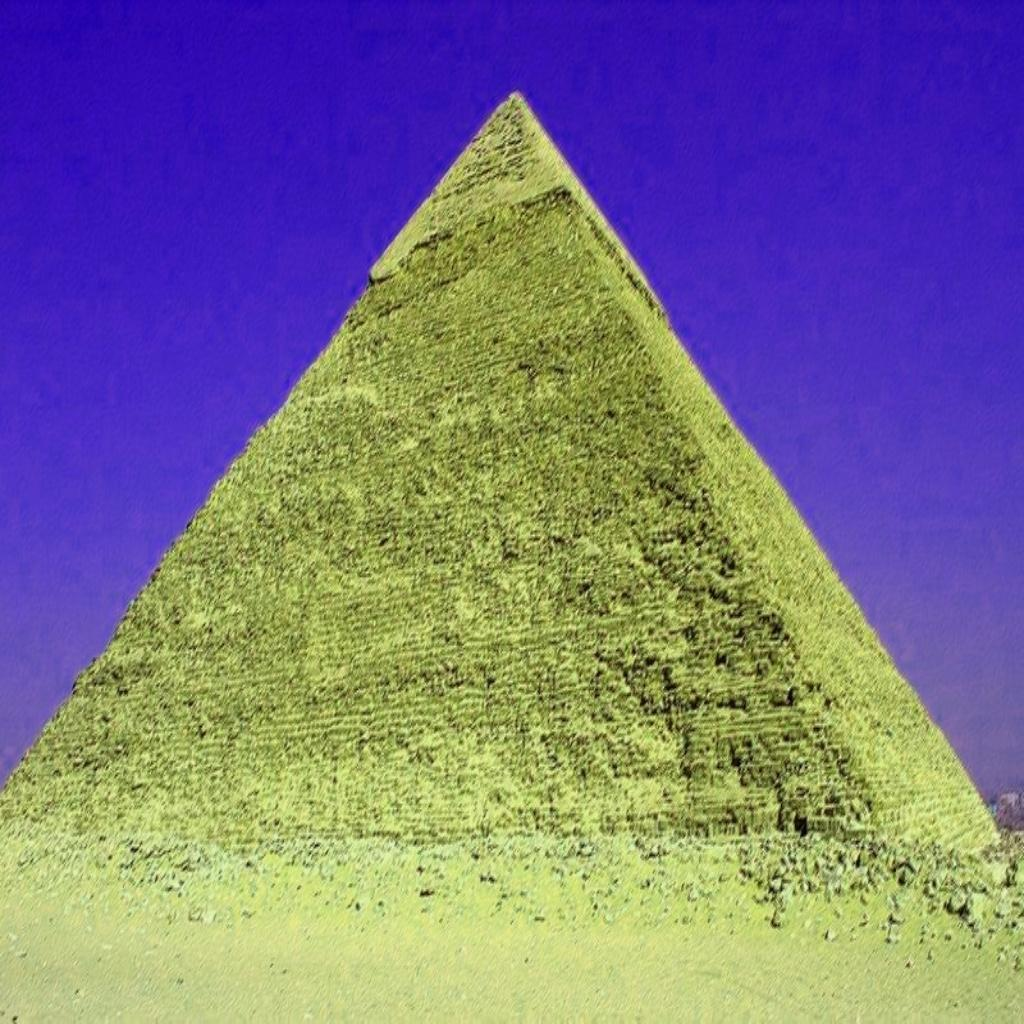Great Pyramids of Giza: (3, 86, 1001, 882)
